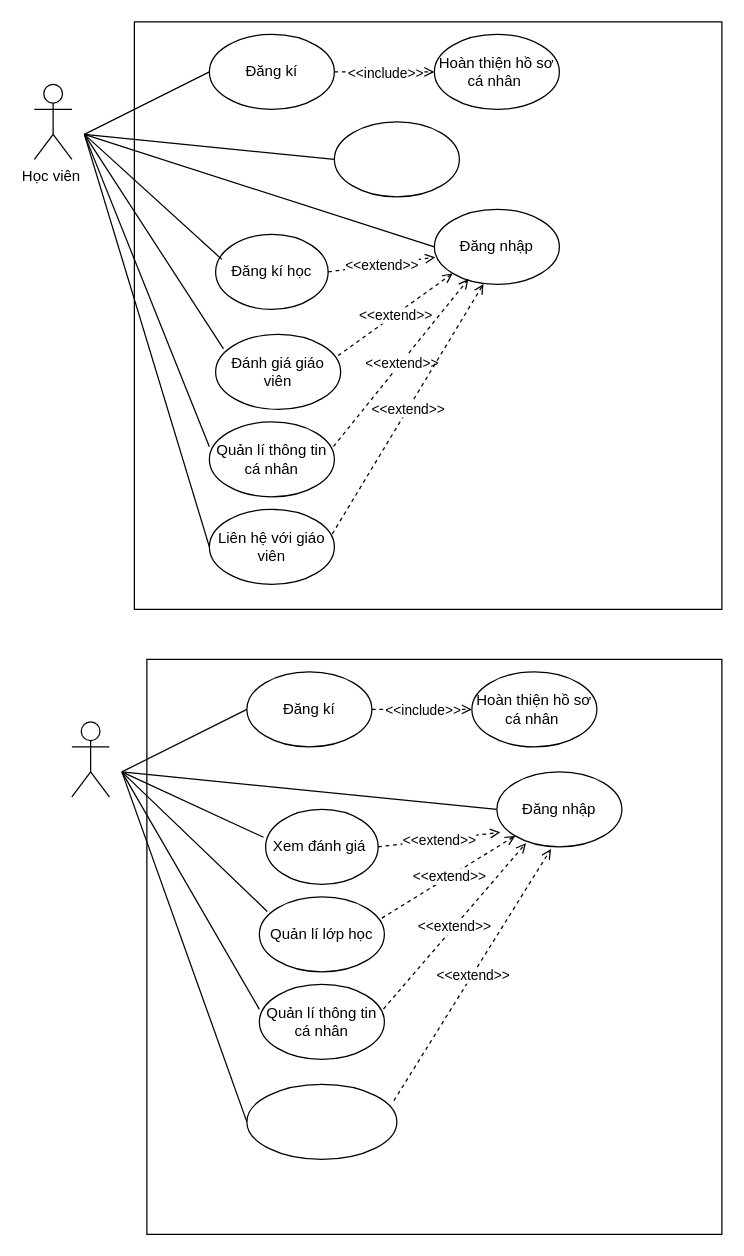
Some shapes in this 744 by 1256 pixel diagram are drawn without their labels. The box of each missing label's shape, as (x1, y1, x2, y2) in pixels:
Giáo viên: (71, 721, 109, 797)
Liên hệ với học sinh và phụ huynh: (246, 1083, 397, 1159)
Tìm kiếm giáo viên: (333, 121, 459, 197)
